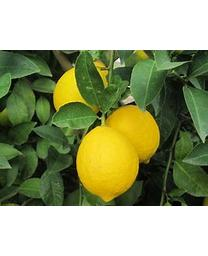lemon: (77, 128, 139, 201), (106, 106, 160, 166)
